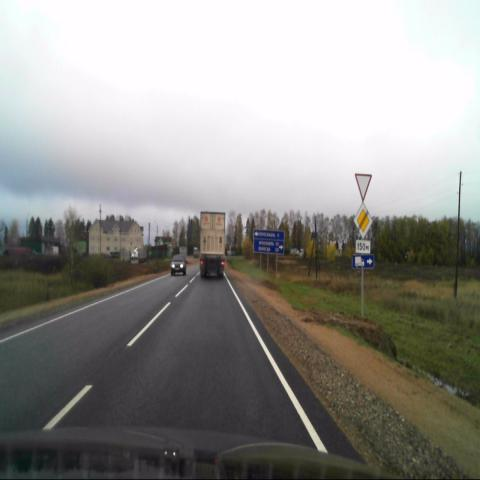2_2: (353, 203, 372, 239)
2_4: (354, 173, 372, 202)
6_15_2: (352, 255, 374, 268)
8_1_1: (355, 240, 370, 253)
